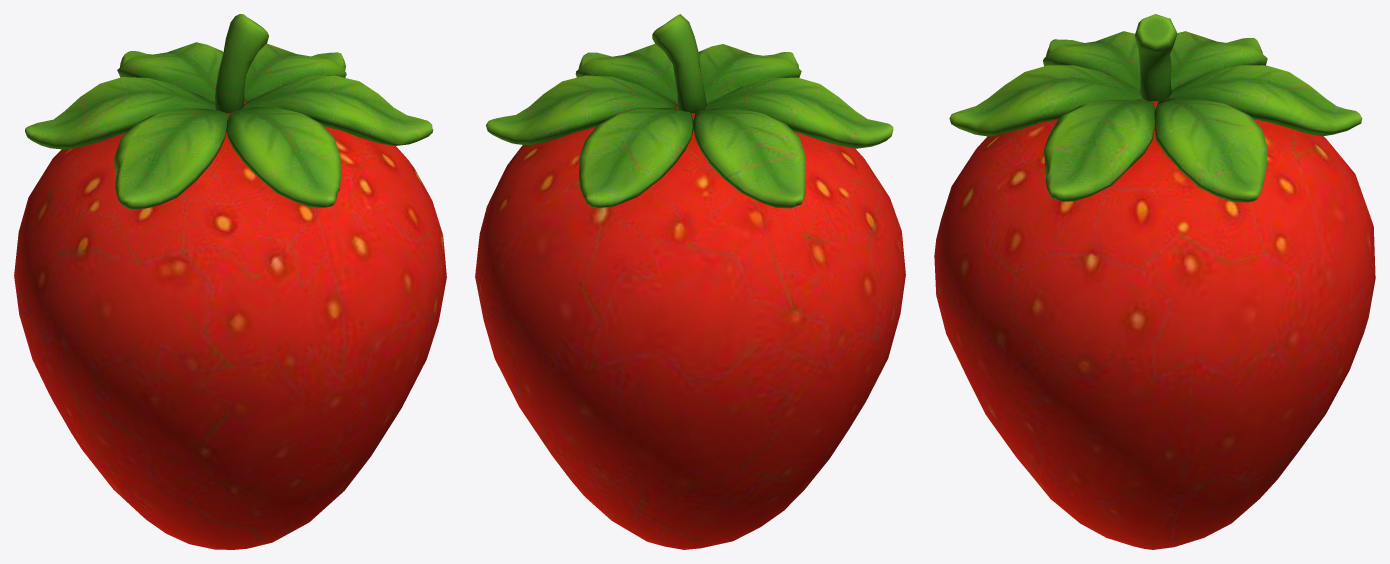
Rendered from f03_strawberry.glb.
3 renders of one model, left to right at view 1: azimuth 30°, elevation 25°; view 2: azimuth 150°, elevation 25°; view 3: azimuth 270°, elevation 25°, orthographic. The views are drawn at different scales.
Parts seen in each view (by area): view 1: geometry_0; view 2: geometry_0; view 3: geometry_0.
Boxes of the visible parts, x1=… form: geometry_0: x1=14, y1=14, x2=446, y2=549; geometry_0: x1=475, y1=14, x2=905, y2=549; geometry_0: x1=934, y1=14, x2=1375, y2=549.
Bounding box in the file's own units: 0.7163 × 0.9512 × 0.7153.
1 material, 1 textured.
